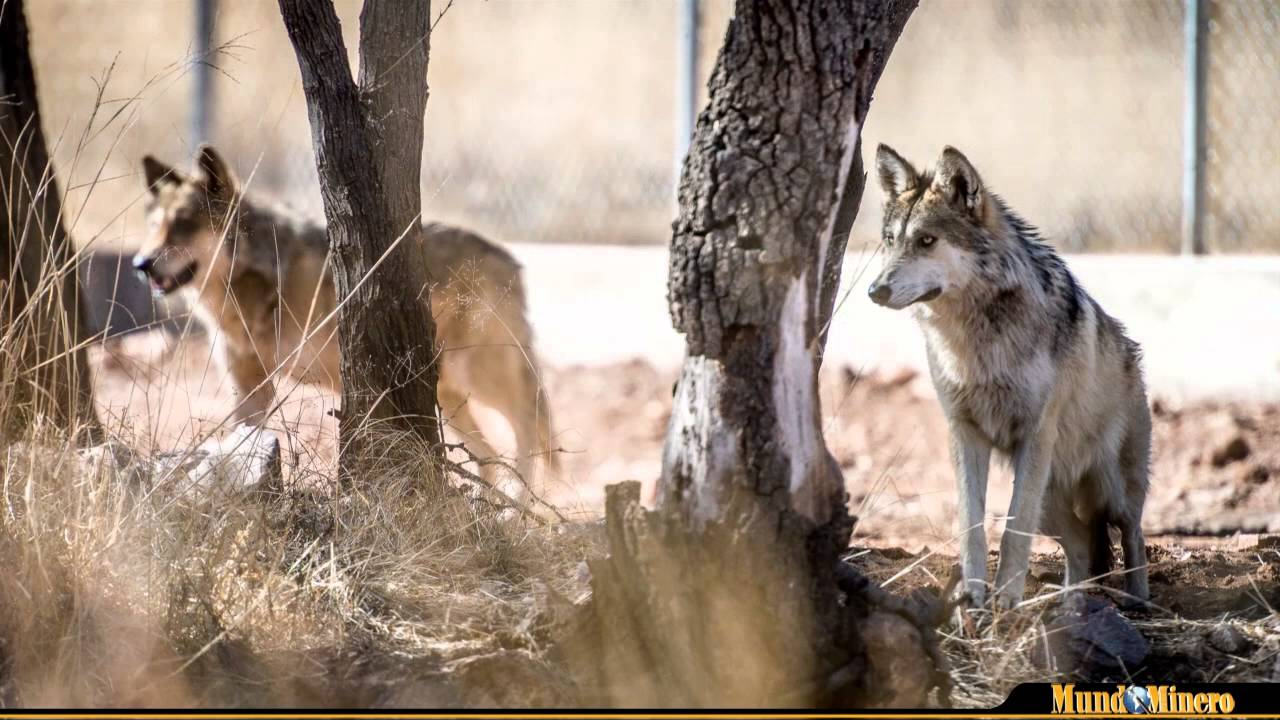Lobo: (118, 126, 593, 488), (862, 161, 1154, 582)
